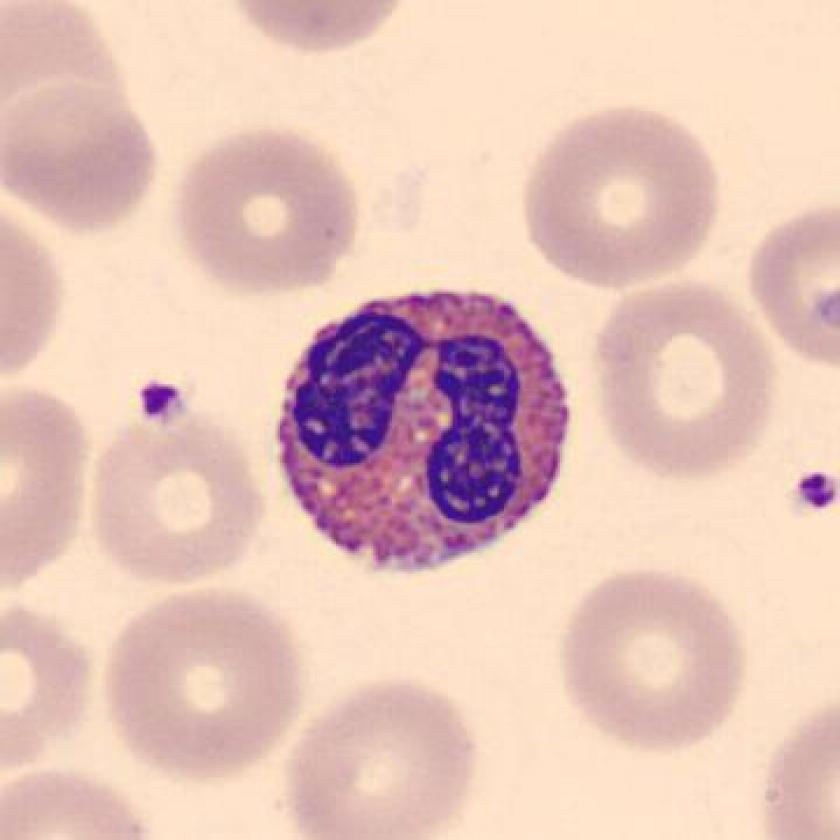eosinophil: (260, 272, 589, 584)
